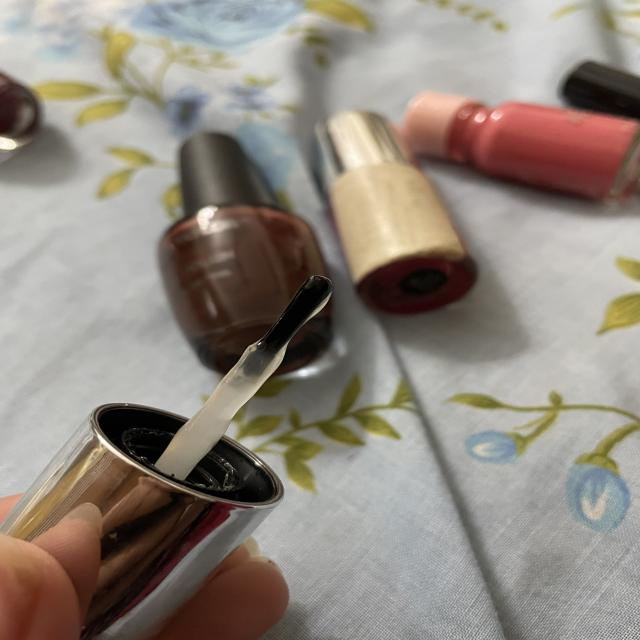nail polish: (0, 260, 350, 634), (143, 112, 334, 379), (306, 89, 468, 323)
